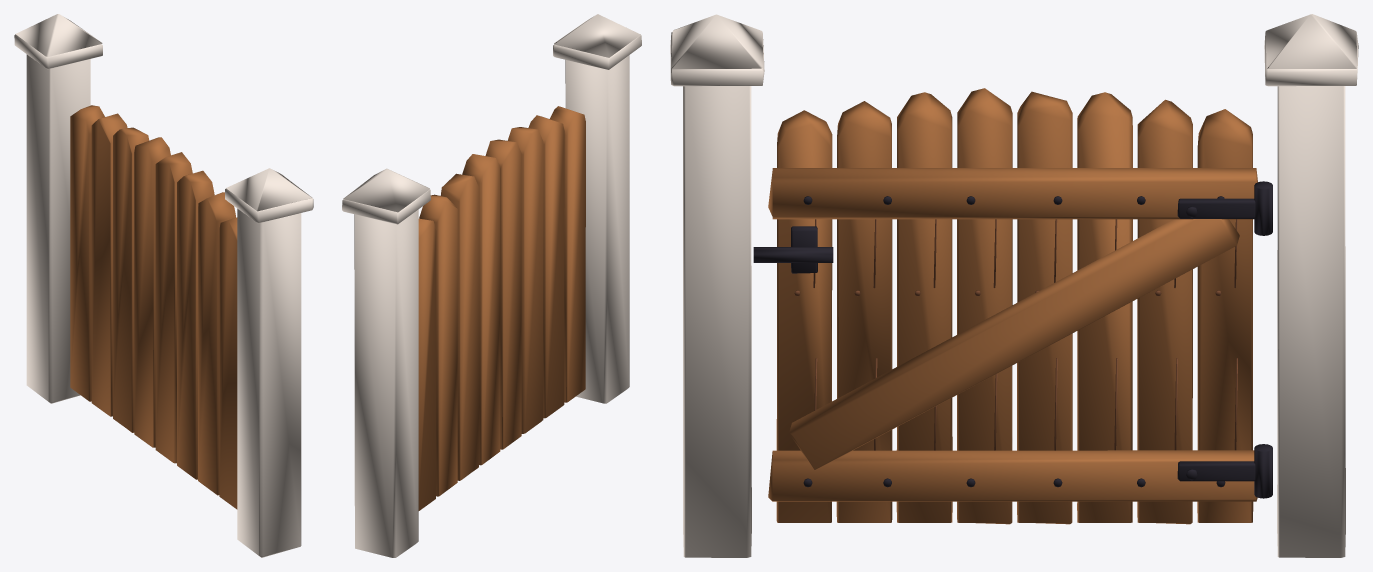
File: prop.yard-gate.lod1.glb
3 renders of one model, left to right at view 1: azimuth 30°, elevation 25°; view 2: azimuth 150°, elevation 25°; view 3: azimuth 270°, elevation 25°, orthographic. The views are drawn at different scales.
Visible parts, largest first — view 1: gate, body; view 2: gate, body; view 3: gate, body, object 1.
Part boxes in pixels (x1,y1,x2,y2): gate: (70, 105, 237, 509); body: (14, 14, 313, 557); gate: (418, 106, 585, 510); body: (342, 14, 641, 557); gate: (753, 88, 1257, 524); body: (670, 14, 1358, 557); object 1: (1254, 181, 1272, 498).
Bounding box in the file's own units: 0.318 × 1.63 × 1.9.
